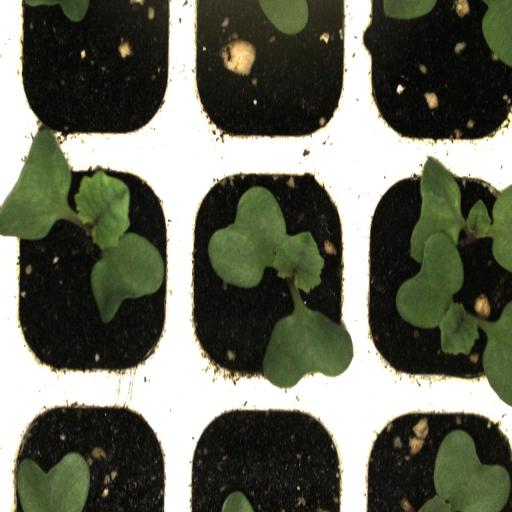Folha: (208, 186, 325, 292), (263, 298, 353, 390), (16, 452, 90, 512), (482, 0, 512, 67)
Germinacao: (180, 156, 359, 396), (4, 155, 180, 387), (361, 156, 512, 398)
